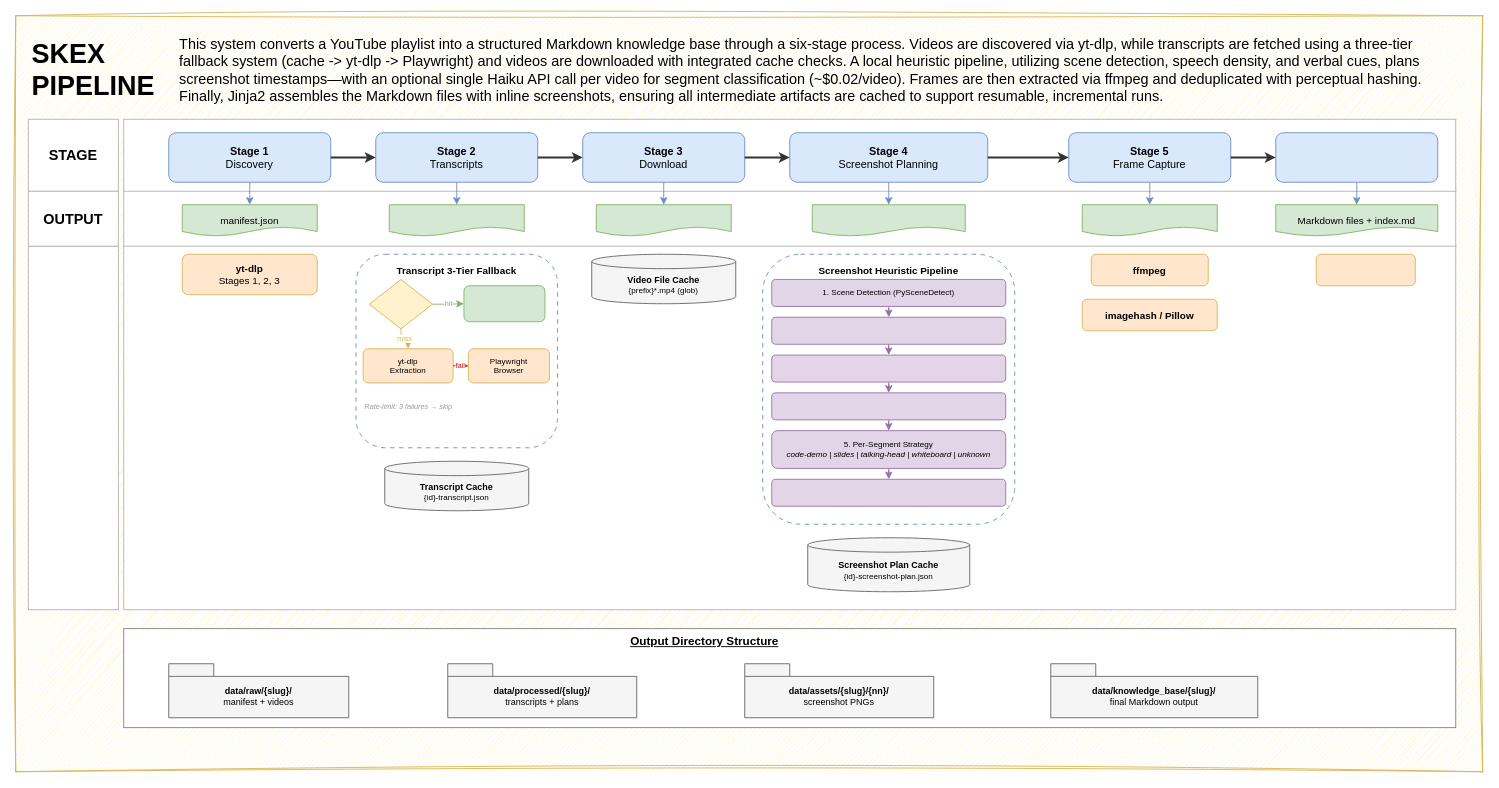
The diagram is 1499 pixels wide and 788 high, and some of its shapes have lost their labels. The centre of each missing label's shape, as x and y in pixels:
"2. Speech Density (sliding window WPM)" belongs at [888,330].
"3. Verbal Cue Scanning (20 keywords)" belongs at [888,368].
"4. Segment Classification (local / Haiku)" belongs at [888,406].
"6. Merge & Deduplicate (10s min)" belongs at [888,492].
"Cache Hit?" belongs at [400,304].
"Jinja2" belongs at [1365,269].
"LOGIC" belongs at [72,427].
"PNG frames" belongs at [1149,220].
"screenshot plan JSONs" belongs at [888,220].
"Stage 6 Markdown Generation" belongs at [1356,157].
"transcript JSONs" belongs at [456,220].
"Use Cached" belongs at [504,303].
"video .mp4 files" belongs at [663,220].
